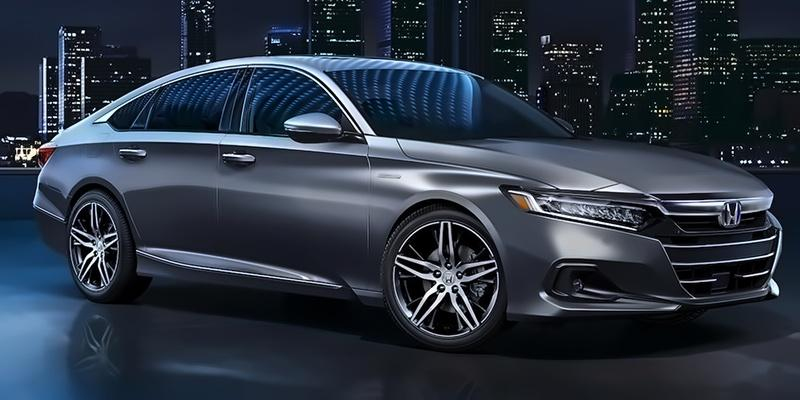Car hood: (383, 129, 775, 209)
Driver-s door - -F-R-: (213, 40, 366, 304)
Fender - -F-R-: (361, 133, 512, 286)
Fender - -R-R-: (33, 98, 127, 225)
Front bumper: (478, 211, 789, 322)
Headlight - -R-: (498, 181, 660, 237)
Passenger-s door - -R-R-: (116, 53, 251, 297)
Rear bumper: (29, 185, 73, 257)
Rear light - -R-: (31, 139, 58, 181)
Side bumper - -R-: (132, 229, 385, 315)
Side mirror - -R-: (285, 110, 364, 149)
